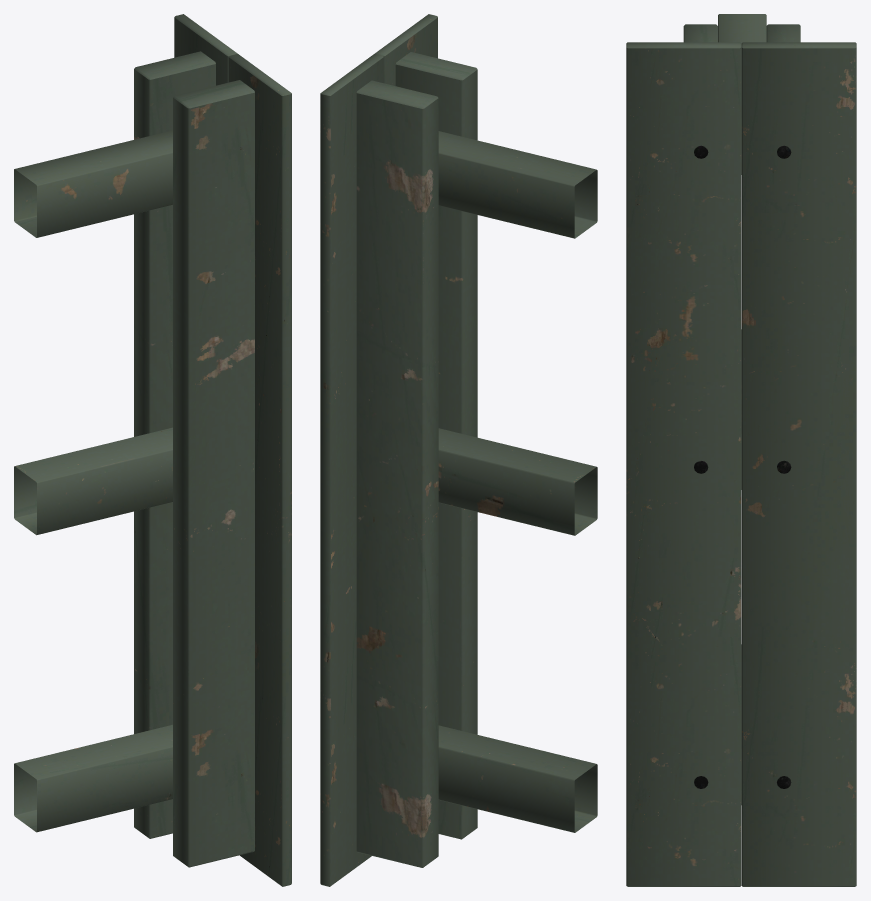
The model's file is cP_Bench12_v04.dae.
3 renders of one model, left to right at view 1: azimuth 30°, elevation 25°; view 2: azimuth 150°, elevation 25°; view 3: azimuth 270°, elevation 25°, orthographic. The views are drawn at different scales.
Parts seen in each view (by area): view 1: cP_Bench12_v04.001; view 2: cP_Bench12_v04.001; view 3: cP_Bench12_v04.001.
Boxes of the visible parts, x1,y1,x2,y2 form: cP_Bench12_v04.001: (14, 14, 291, 886); cP_Bench12_v04.001: (320, 14, 597, 886); cP_Bench12_v04.001: (626, 14, 856, 886).
Bounding box in the file's own units: 0.5638 × 0.4962 × 2.
